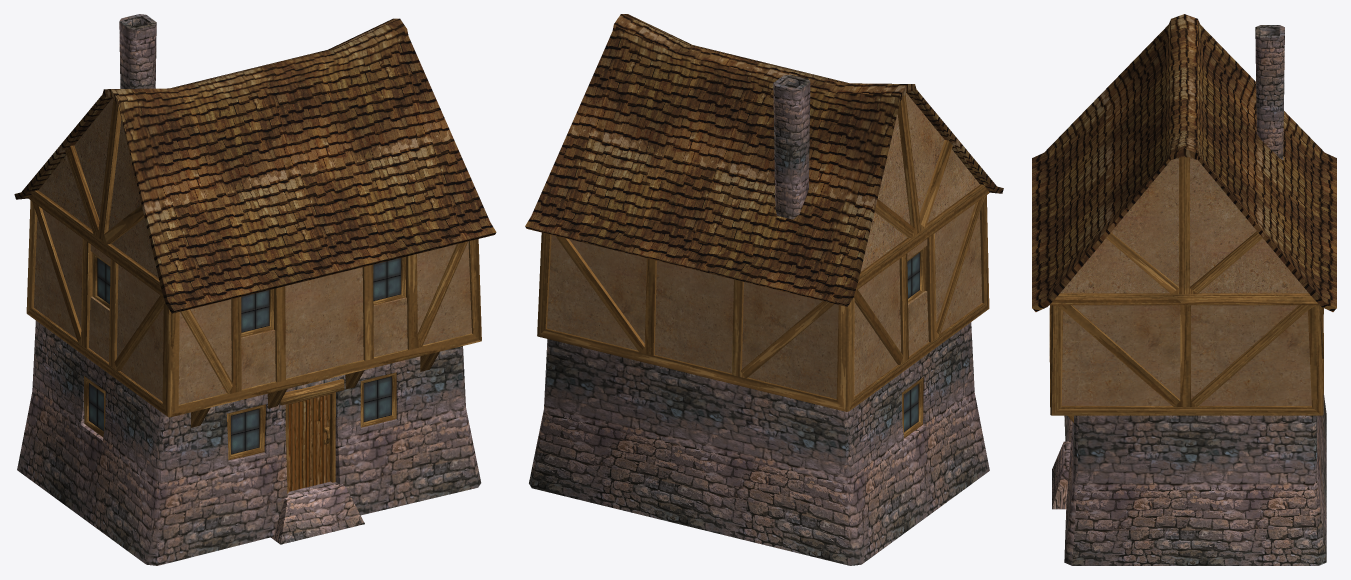
The model's file is BrickHouse3.FBX.
3 views of the same model, side by side, from view 1: azimuth 30°, elevation 25°; view 2: azimuth 150°, elevation 25°; view 3: azimuth 270°, elevation 25° (orthographic). The views are drawn at different scales.
Parts seen in each view (by area): view 1: house_brick03_roof, house03_downstairs, house03_upstairs, house03_door, house03_windows, house_brick03_chimney; view 2: house_brick03_roof, house03_downstairs, house03_upstairs, house_brick03_chimney, house03_windows; view 3: house_brick03_roof, house03_downstairs, house03_upstairs, house_brick03_chimney, house03_door.
Part boxes in pixels (x1,y1,x2,y2): house_brick03_roof: (14,18,496,313); house03_downstairs: (17,320,481,565); house03_upstairs: (26,200,481,417); house03_door: (271,379,364,544); house03_windows: (84,253,405,460); house_brick03_chimney: (119,14,156,88); house_brick03_roof: (525,14,1003,306); house03_downstairs: (529,322,989,565); house03_upstairs: (537,195,989,411); house_brick03_chimney: (773,74,810,219); house03_windows: (901,247,925,438); house_brick03_roof: (1032,14,1336,311); house03_downstairs: (1064,394,1326,565); house03_upstairs: (1049,305,1323,415); house_brick03_chimney: (1255,25,1284,159); house03_door: (1052,441,1070,509).
Bounding box in the file's own units: 8.4 × 10.68 × 6.94.
